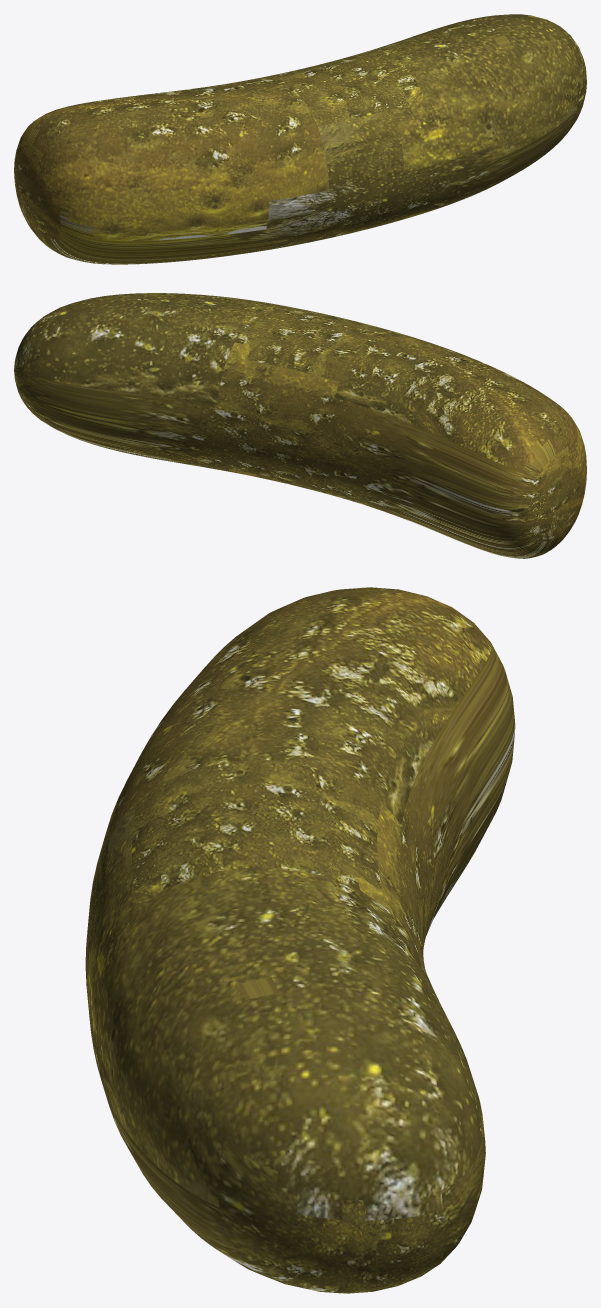
The model's file is Pickle.fbx.
The picture shows the model from 3 angles, top to bottom: view 1: azimuth 30°, elevation 25°; view 2: azimuth 150°, elevation 25°; view 3: azimuth 270°, elevation 25°; orthographic projection. The views are drawn at different scales.
Visible parts, largest first — view 1: Cube; view 2: Cube; view 3: Cube.
Boxes of the visible parts, box(x1,y1,x2,y2) form: Cube: box(14, 14, 586, 264); Cube: box(14, 293, 586, 558); Cube: box(85, 587, 515, 1293).
Bounding box in the file's own units: 167 × 45.35 × 57.62.
